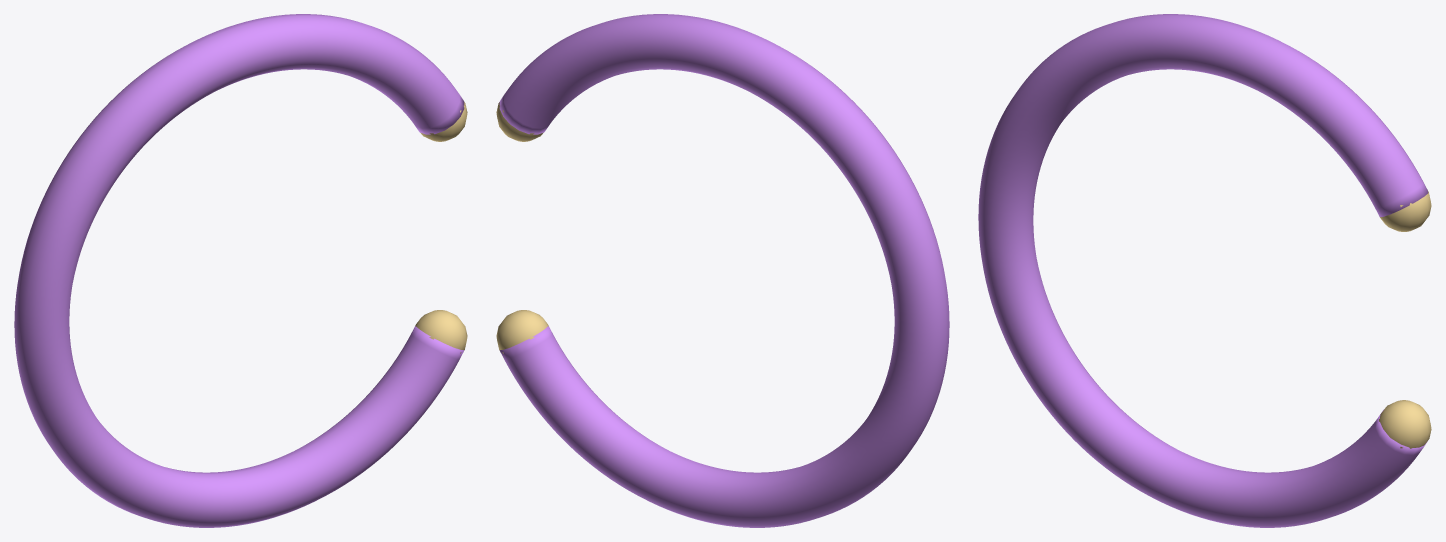
Rendered from ring-I9SHVBLe.glb.
The picture shows the model from 3 angles, left to right: view 1: azimuth 30°, elevation 25°; view 2: azimuth 150°, elevation 25°; view 3: azimuth 330°, elevation 25°; orthographic projection.
Visible parts, largest first — view 1: R3D_RingBody, R3D_GoldTips; view 2: R3D_RingBody, R3D_GoldTips; view 3: R3D_RingBody, R3D_GoldTips.
Part boxes in pixels (left/top/right/bottom): R3D_RingBody: left=14, top=14, right=464, bottom=527; R3D_GoldTips: left=415, top=102, right=467, bottom=353; R3D_RingBody: left=499, top=14, right=949, bottom=527; R3D_GoldTips: left=496, top=102, right=548, bottom=353; R3D_RingBody: left=978, top=14, right=1428, bottom=527; R3D_GoldTips: left=1379, top=191, right=1431, bottom=448.
Size of the model in its own units: 1.67 by 1.78 by 0.18.
